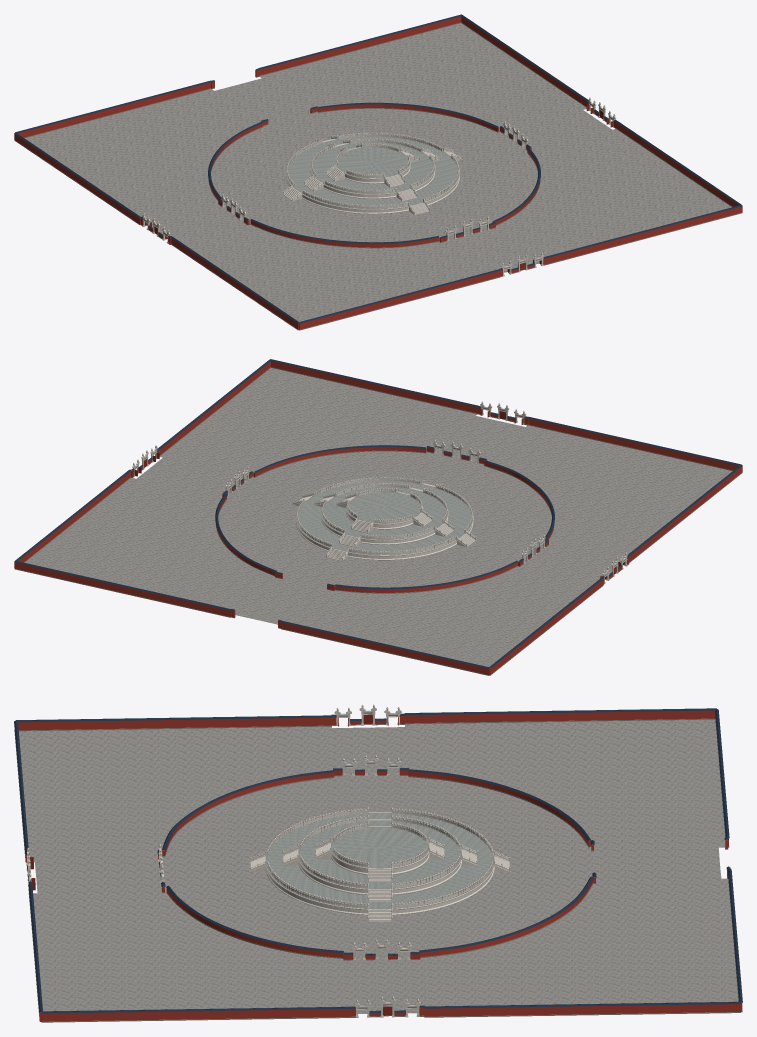
The model's file is preview.glb.
3 views of the same model, one above another, from view 1: azimuth 30°, elevation 25°; view 2: azimuth 150°, elevation 25°; view 3: azimuth 270°, elevation 25° (orthographic). The views are drawn at different scales.
Visible parts, largest first — view 1: Mound court, Mound red, Mound stone, Mound blueRoof, Mound paving0, Mound base, Mound paving1, Mound paving2, Mound paving4, Mound paving3, Mound blueTile; view 2: Mound court, Mound red, Mound stone, Mound blueRoof, Mound paving0, Mound base, Mound paving4, Mound paving2, Mound paving1, Mound paving3, Mound blueTile; view 3: Mound court, Mound red, Mound stone, Mound blueRoof, Mound paving0, Mound base, Mound paving1, Mound paving2, Mound paving4, Mound paving3, Mound blueTile.
Part boxes in pixels (left/top/right/bottom): Mound court: left=25, top=23, right=731, bottom=321; Mound red: left=14, top=16, right=742, bottom=329; Mound stone: left=142, top=97, right=616, bottom=276; Mound blueRoof: left=14, top=14, right=742, bottom=323; Mound paving0: left=286, top=136, right=459, bottom=209; Mound base: left=14, top=22, right=741, bottom=330; Mound paving1: left=288, top=136, right=457, bottom=206; Mound paving2: left=288, top=136, right=457, bottom=208; Mound paving4: left=288, top=136, right=457, bottom=208; Mound paving3: left=288, top=136, right=457, bottom=208; Mound blueTile: left=15, top=14, right=741, bottom=322; Mound court: left=24, top=368, right=732, bottom=666; Mound red: left=14, top=361, right=742, bottom=675; Mound stone: left=132, top=401, right=627, bottom=583; Mound blueRoof: left=14, top=359, right=742, bottom=668; Mound paving0: left=296, top=481, right=473, bottom=555; Mound base: left=15, top=367, right=742, bottom=675; Mound paving4: left=298, top=481, right=471, bottom=554; Mound paving2: left=298, top=481, right=471, bottom=554; Mound paving1: left=298, top=481, right=470, bottom=553; Mound paving3: left=298, top=481, right=470, bottom=554; Mound blueTile: left=15, top=359, right=741, bottom=667; Mound court: left=19, top=719, right=738, bottom=1013; Mound red: left=14, top=710, right=742, bottom=1021; Mound stone: left=26, top=704, right=510, bottom=1017; Mound blueRoof: left=14, top=708, right=742, bottom=1013; Mound paving0: left=265, top=812, right=494, bottom=909; Mound base: left=14, top=718, right=742, bottom=1022; Mound paving1: left=267, top=813, right=492, bottom=908; Mound paving2: left=267, top=813, right=492, bottom=908; Mound paving4: left=267, top=813, right=492, bottom=908; Mound paving3: left=267, top=813, right=492, bottom=908; Mound blueTile: left=16, top=708, right=740, bottom=1012.
Size of the model in its own units: 1.73 by 0.0659 by 1.75.
16 materials, 2 textured.
